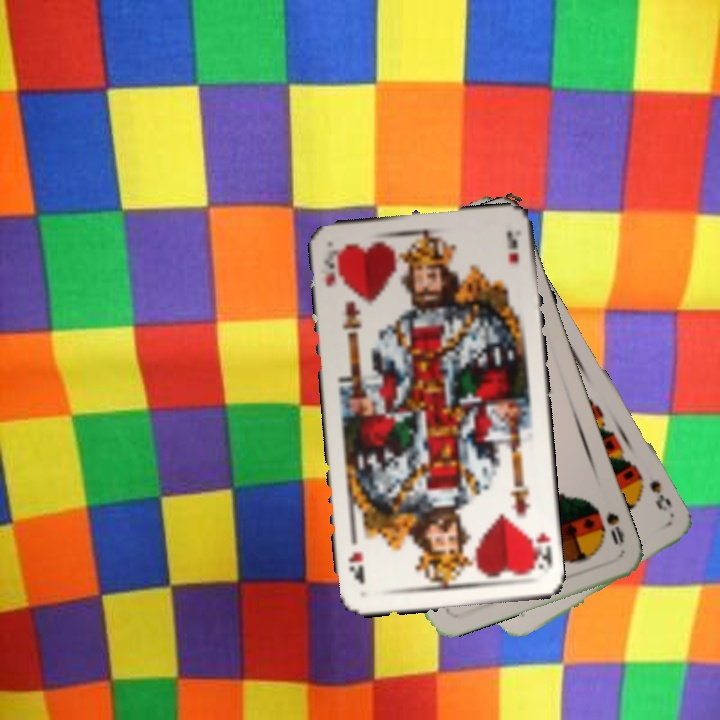HK: (526, 529, 554, 573), (320, 249, 345, 290)
S9: (633, 469, 675, 514)
SO: (602, 507, 627, 549)
